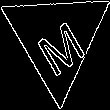M_NW: (27, 5, 86, 73)
